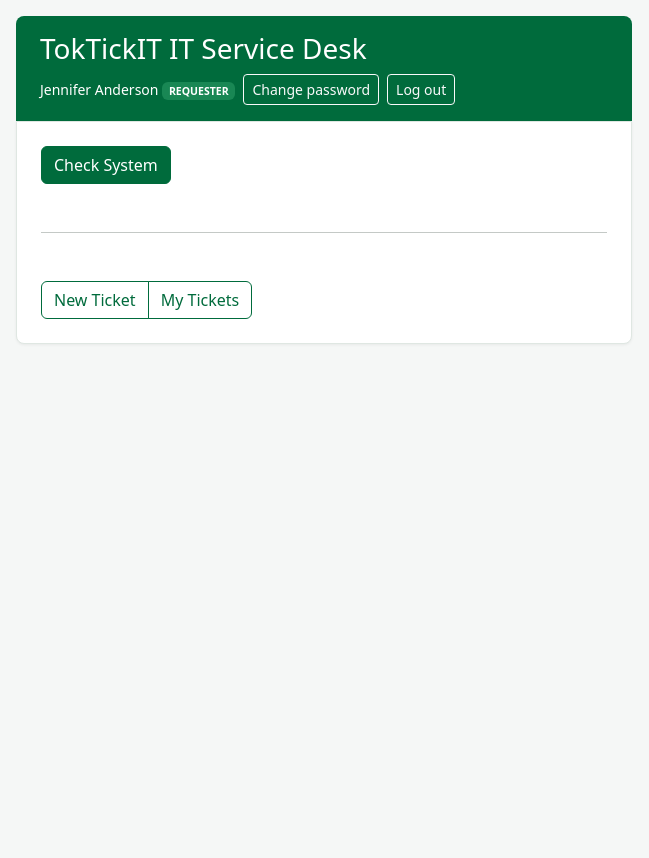
Test: TicketDetail › keeps the previous search/filter/sort state after Back is clicked
Click the button "My Tickets" at (200, 300), box [148,281,252,319]
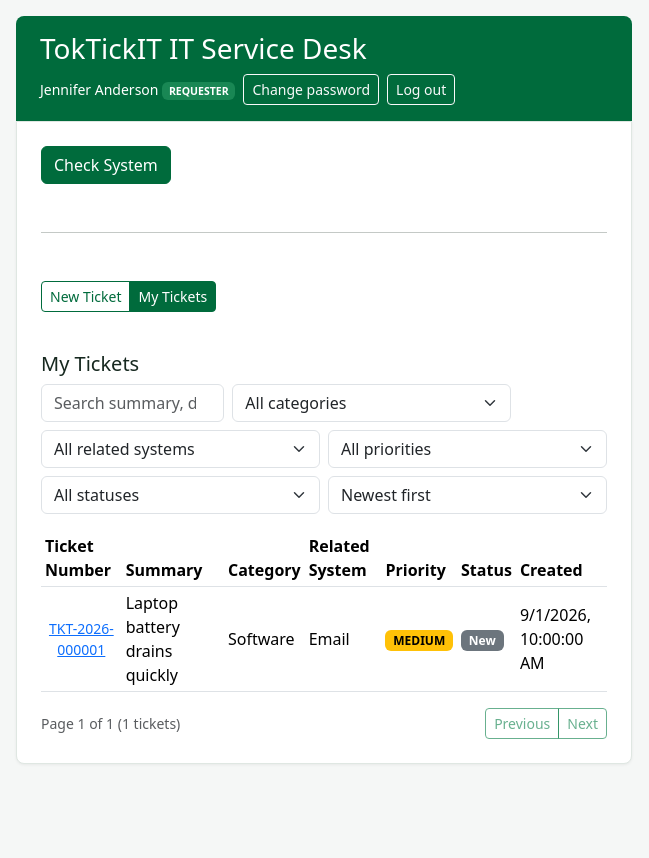
Now the heading "My Tickets" is shown, box [41,350,139,377]
Select "Software" in the dropdown named "Filter by category" at (372, 403), box [232,384,511,422]
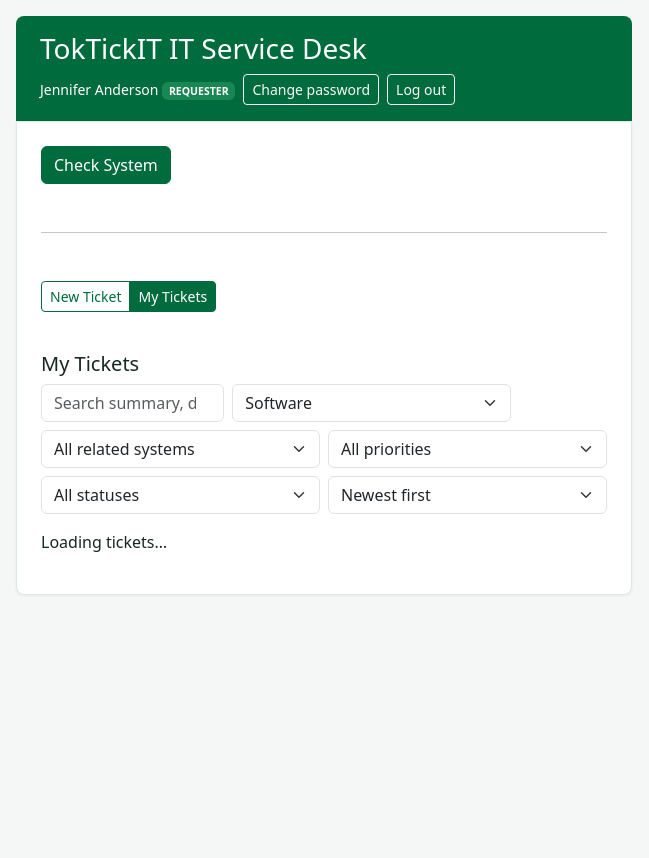
Select "Summary (A–Z)" in the dropdown named "Sort by" at (468, 495), box [328,476,607,514]
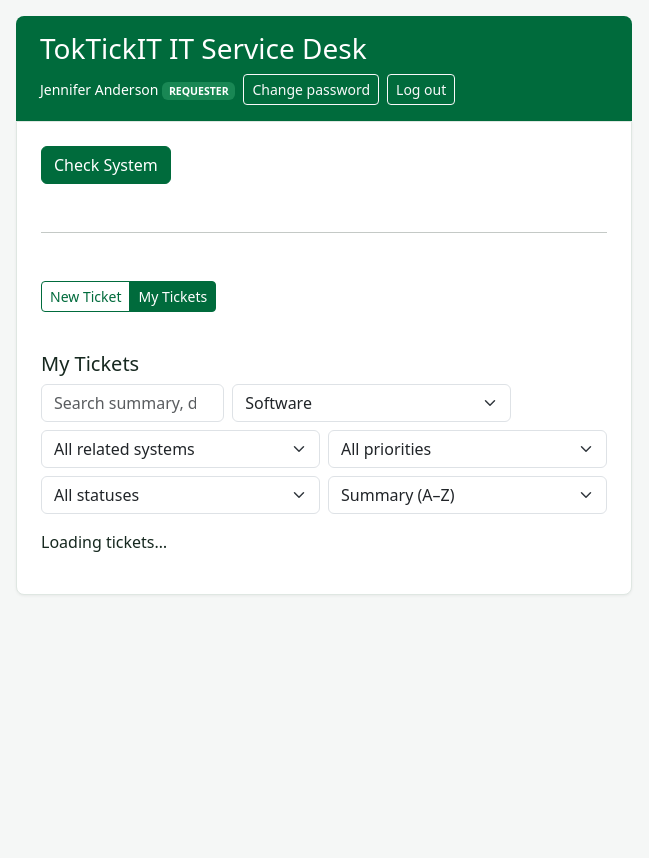
Type "battery" into the search field named "Search tickets" at (133, 403), box [41,384,224,422]
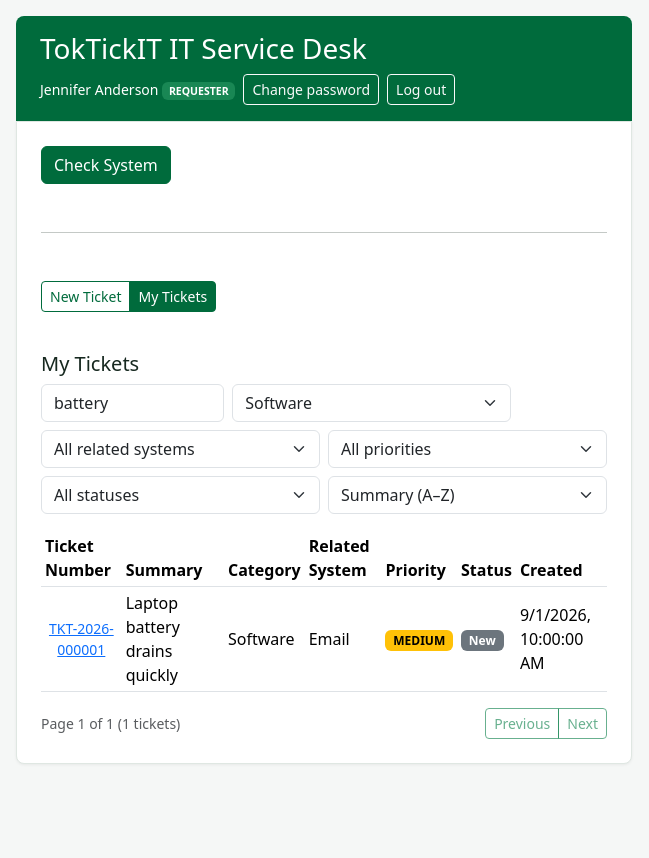
Click the button "TKT-2026-000001" at (81, 639), box [45,617,118,661]
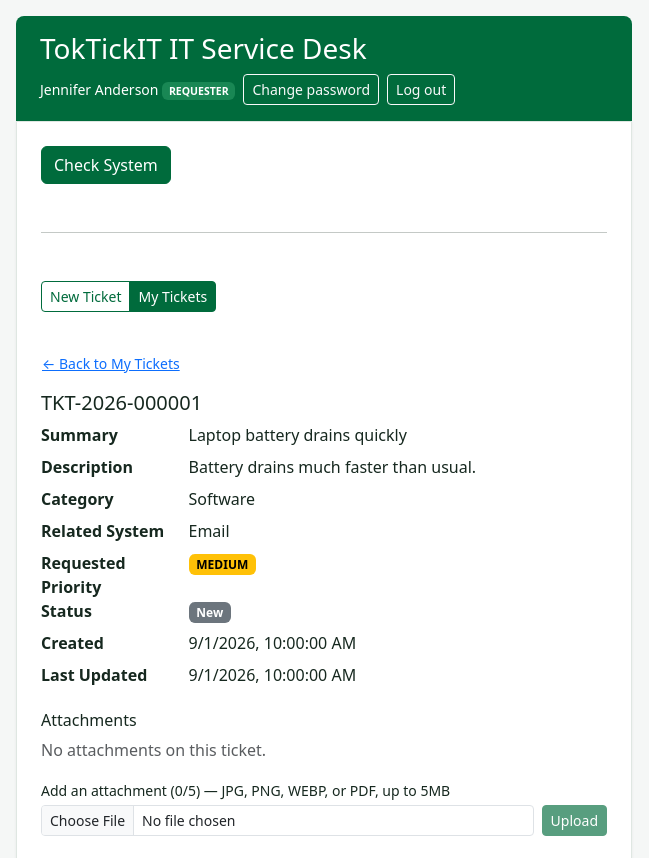
Now the heading "TKT-2026-000001" is shown, box [41,389,202,416]
Click the button "← Back to My Tickets" at (111, 363), box [41,352,181,375]
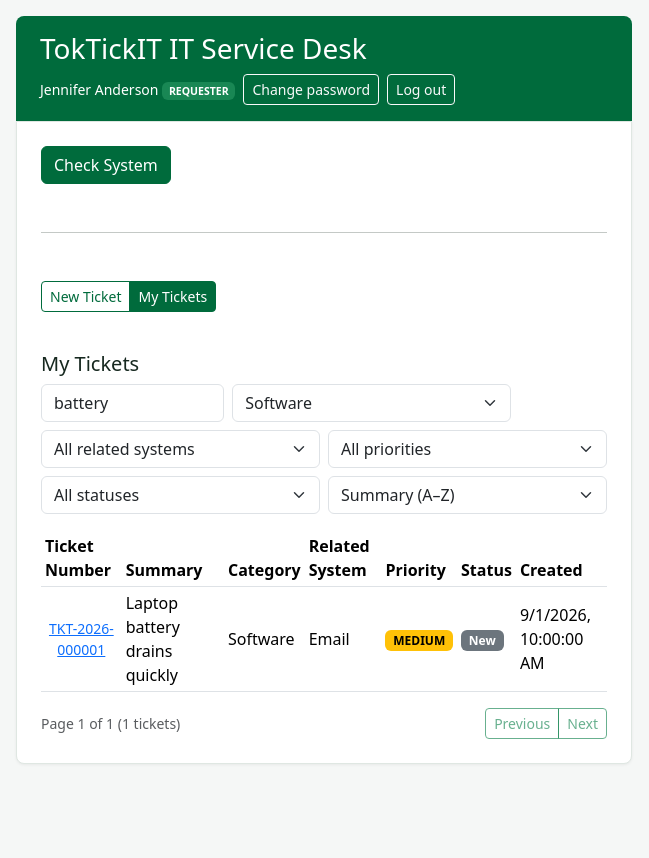
Now the heading "My Tickets" is shown, box [41,350,139,377]
Now the dropdown named "Filter by category" shows "Software", box [232,384,511,422]
Now the dropdown named "Sort by" shows "Summary (A–Z)", box [328,476,607,514]
